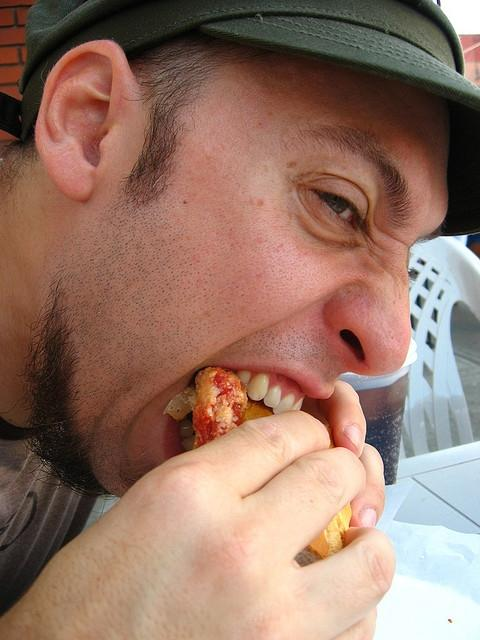onion: (164, 386, 198, 422)
